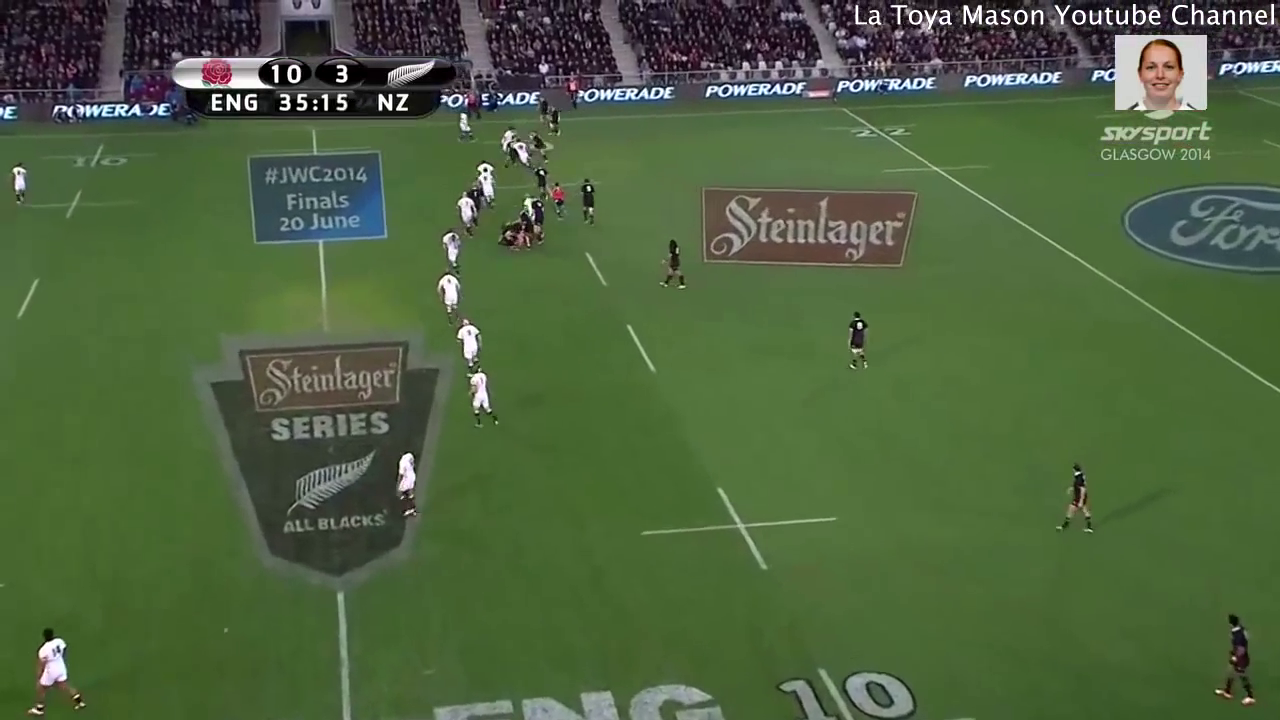10_metre: (629, 479, 847, 576), (768, 655, 928, 720), (13, 187, 147, 221), (35, 140, 168, 170)
player: (18, 622, 96, 720), (1210, 607, 1265, 712), (1049, 450, 1101, 539), (836, 307, 884, 377), (461, 362, 505, 435), (652, 224, 694, 299), (387, 446, 423, 524), (430, 264, 468, 336), (451, 311, 486, 378), (453, 187, 483, 240), (437, 221, 462, 280), (576, 177, 603, 229), (514, 202, 539, 255), (475, 165, 501, 214), (530, 195, 551, 248), (509, 136, 536, 177), (524, 130, 550, 171), (550, 179, 571, 225), (453, 106, 477, 145), (544, 101, 564, 142), (530, 159, 550, 200), (495, 215, 521, 245), (465, 181, 487, 215), (516, 189, 543, 212), (473, 158, 500, 179), (536, 92, 549, 131), (496, 125, 518, 148)
ruck: (495, 203, 559, 257)
